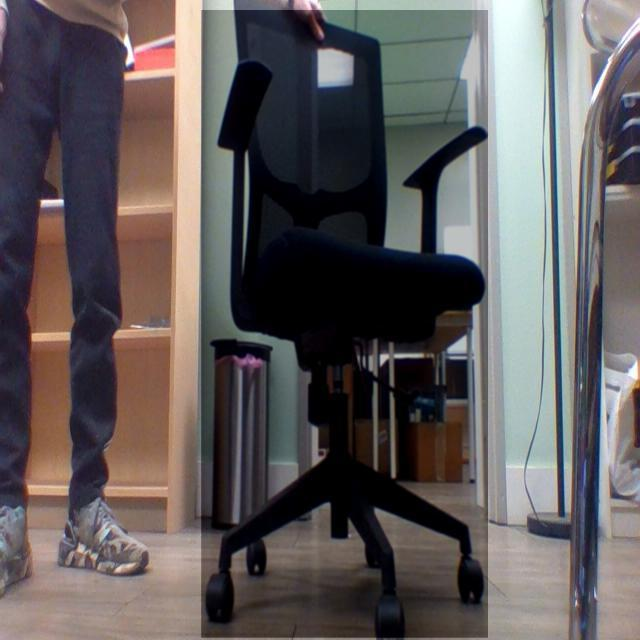chair: (210, 0, 493, 640)
